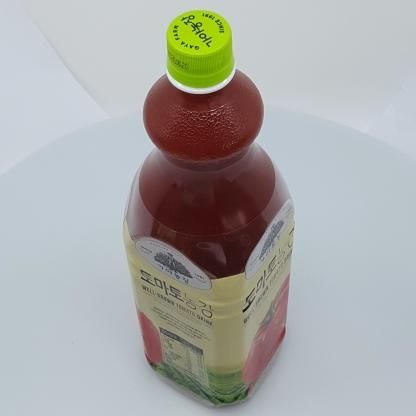-------1-5L: (122, 10, 295, 407)
